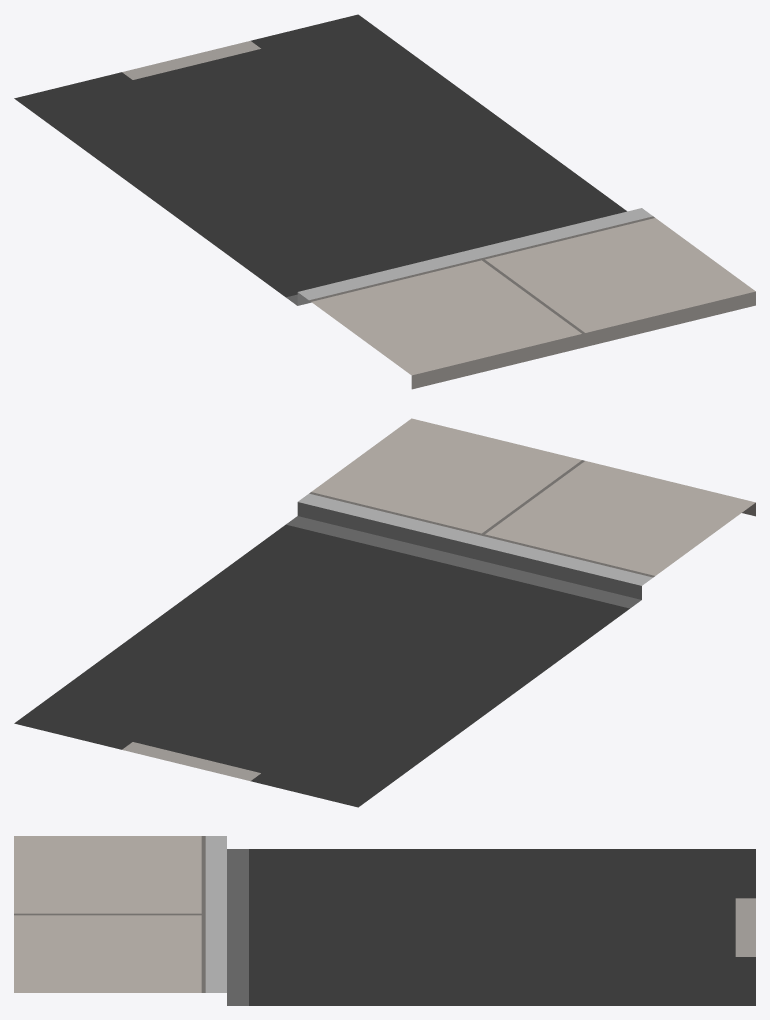
Rendered from SA_Env_Road_Straight_01.glb.
3 views of the same model, one above another, from view 1: azimuth 30°, elevation 25°; view 2: azimuth 150°, elevation 25°; view 3: azimuth 270°, elevation 25° (orthographic). The views are drawn at different scales.
Parts seen in each view (by area): view 1: SA_Env_Road_Straight_01; view 2: SA_Env_Road_Straight_01; view 3: SA_Env_Road_Straight_01.
Boxes of the visible parts, x1=… form: SA_Env_Road_Straight_01: x1=14, y1=14, x2=755, y2=389; SA_Env_Road_Straight_01: x1=14, y1=418, x2=755, y2=807; SA_Env_Road_Straight_01: x1=14, y1=836, x2=755, y2=1005.
Size of the model in its own units: 2.1 by 0.0818 by 4.2.
Materials: 1 (1 with a texture image).
